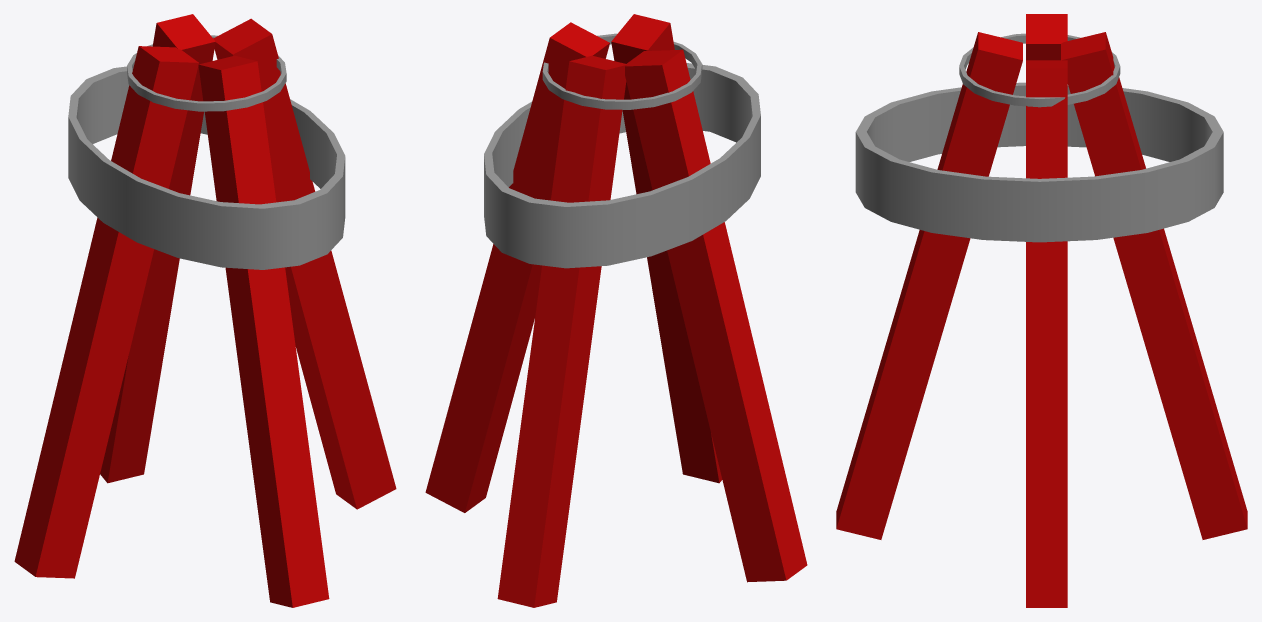
Rendered from RedA.obj.
The picture shows the model from 3 angles, left to right: view 1: azimuth 30°, elevation 25°; view 2: azimuth 150°, elevation 25°; view 3: azimuth 270°, elevation 25°; orthographic projection.
Parts seen in each view (by area): view 1: redA pCube2, pCube3 redA, redA pPipe1, redA pCube4, redA pCube1, redA pPipe2; view 2: redA pCube2, redA pCube1, redA pPipe1, redA pCube4, pCube3 redA, redA pPipe2; view 3: redA pPipe1, pCube3 redA, redA pCube1, redA pCube4, redA pPipe2, redA pCube2.
Part boxes in pixels (x1,y1,x2,y2): redA pCube2: [14, 46, 198, 578]; pCube3 redA: [198, 55, 329, 607]; redA pPipe1: [68, 66, 345, 269]; redA pCube4: [213, 18, 396, 509]; redA pCube1: [100, 14, 215, 483]; redA pPipe2: [127, 35, 286, 111]; redA pCube2: [625, 49, 807, 582]; redA pCube1: [497, 55, 626, 607]; redA pPipe1: [484, 63, 760, 268]; redA pCube4: [425, 22, 609, 512]; pCube3 redA: [611, 14, 722, 483]; redA pPipe2: [542, 33, 702, 109]; redA pPipe1: [855, 82, 1223, 242]; pCube3 redA: [836, 32, 1022, 539]; redA pCube1: [1061, 32, 1247, 539]; redA pCube4: [1026, 60, 1067, 607]; redA pPipe2: [959, 33, 1120, 107]; redA pCube2: [1026, 14, 1067, 60].
Bounding box in the file's own units: 10.66 × 14.01 × 10.64.
